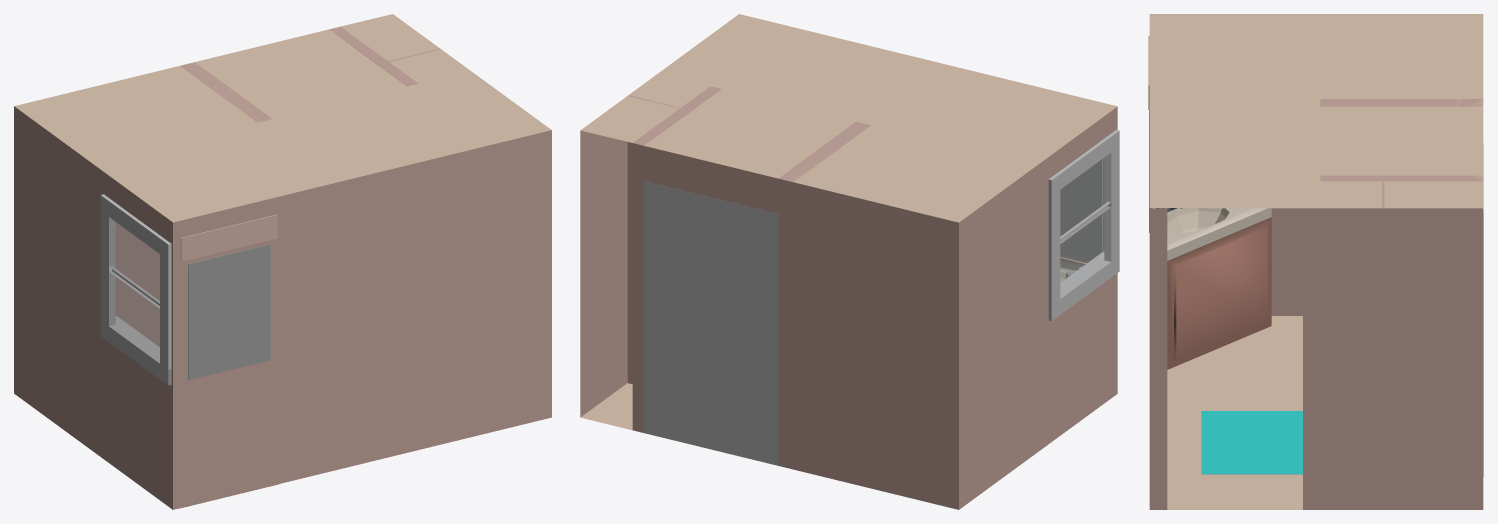
File: bathroom.fbx
3 views of the same model, side by side, from view 1: azimuth 30°, elevation 25°; view 2: azimuth 150°, elevation 25°; view 3: azimuth 270°, elevation 25° (orthographic). The views are drawn at different scales.
Visible parts, largest first — view 1: Walls, Window, Mirror, lights; view 2: Walls, ShowerWalls, Window, Mirror; view 3: Walls, Sink, Rug.
Boxes of the visible parts, x1,y1,x2,y2 form: Walls: (14, 14, 551, 509); Window: (100, 194, 171, 385); Mirror: (188, 244, 270, 380); lights: (181, 214, 277, 261); Walls: (580, 14, 1117, 509); ShowerWalls: (643, 181, 778, 465); Window: (1048, 130, 1119, 320); Mirror: (1060, 159, 1102, 261); Walls: (1149, 14, 1483, 509); Sink: (1152, 208, 1271, 369); Rug: (1201, 411, 1302, 474).
Size of the model in its own units: 567 by 412 by 410.
